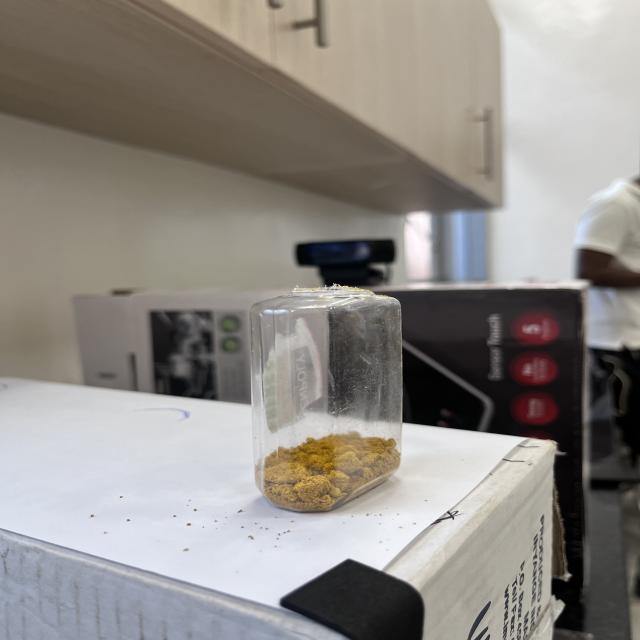curry_powder: (258, 432, 401, 514)
